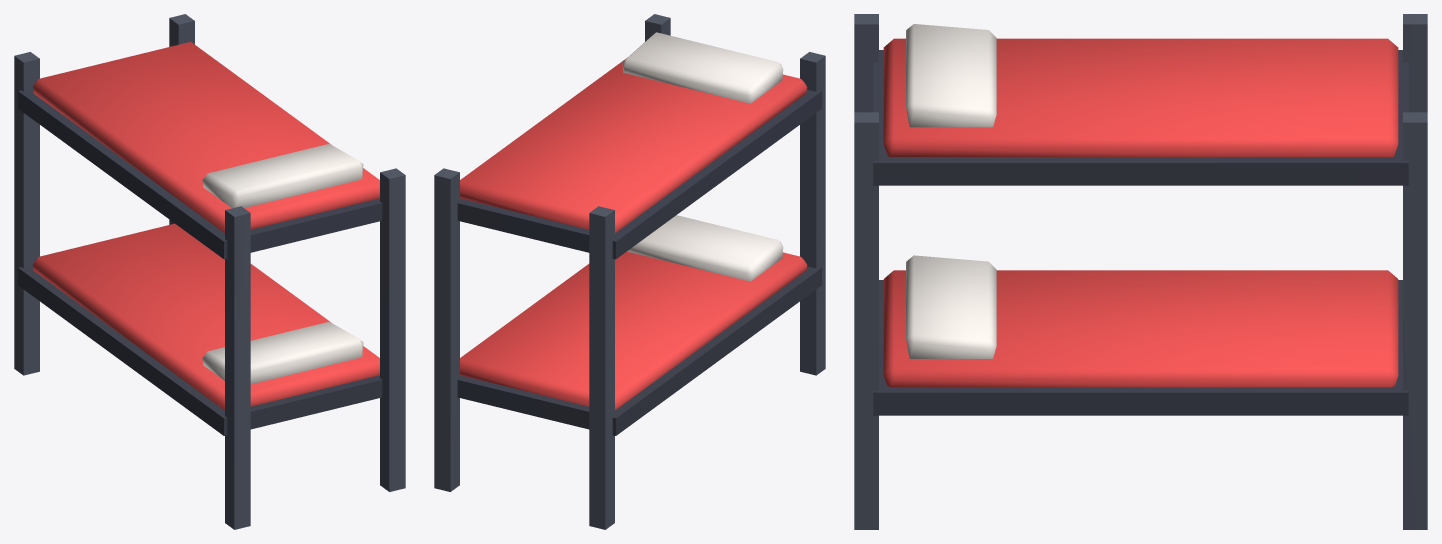
File: bunks.fbx
The picture shows the model from 3 angles, left to right: view 1: azimuth 30°, elevation 25°; view 2: azimuth 150°, elevation 25°; view 3: azimuth 270°, elevation 25°; orthographic projection. The views are drawn at different scales.
Visible parts, largest first — view 1: bunks; view 2: bunks; view 3: bunks.
Boxes of the visible parts, box(x1,y1,x2,y2) form: bunks: box(14, 14, 405, 529); bunks: box(434, 14, 825, 529); bunks: box(854, 14, 1427, 529).
Bounding box in the file's own units: 0.9619 × 1.64 × 2.06.
